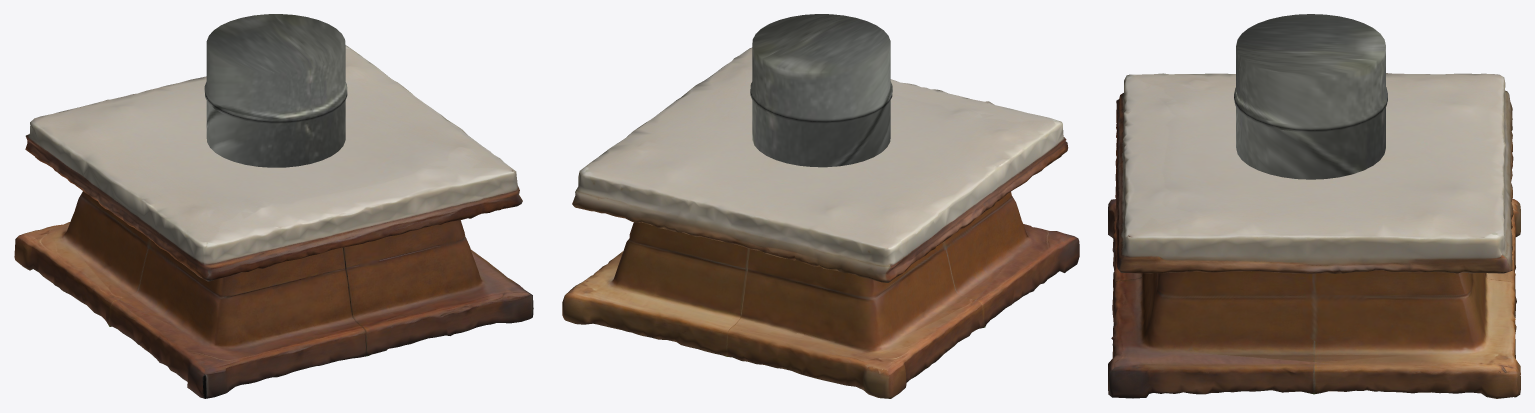
File: benda23.glb
3 views of the same model, side by side, from view 1: azimuth 30°, elevation 25°; view 2: azimuth 150°, elevation 25°; view 3: azimuth 270°, elevation 25° (orthographic). The views are drawn at different scales.
Parts seen in each view (by area): view 1: Mesh_0, Cylinder; view 2: Mesh_0, Cylinder; view 3: Mesh_0, Cylinder.
Part boxes in pixels (x1,y1,x2,y2): Mesh_0: (14, 45, 533, 398); Cylinder: (204, 14, 347, 167); Mesh_0: (562, 47, 1079, 398); Cylinder: (750, 14, 892, 167); Mesh_0: (1108, 73, 1520, 398); Cylinder: (1234, 14, 1387, 179).
Bounding box in the file's own units: 2 × 1.43 × 2.
2 materials, 2 textured.
